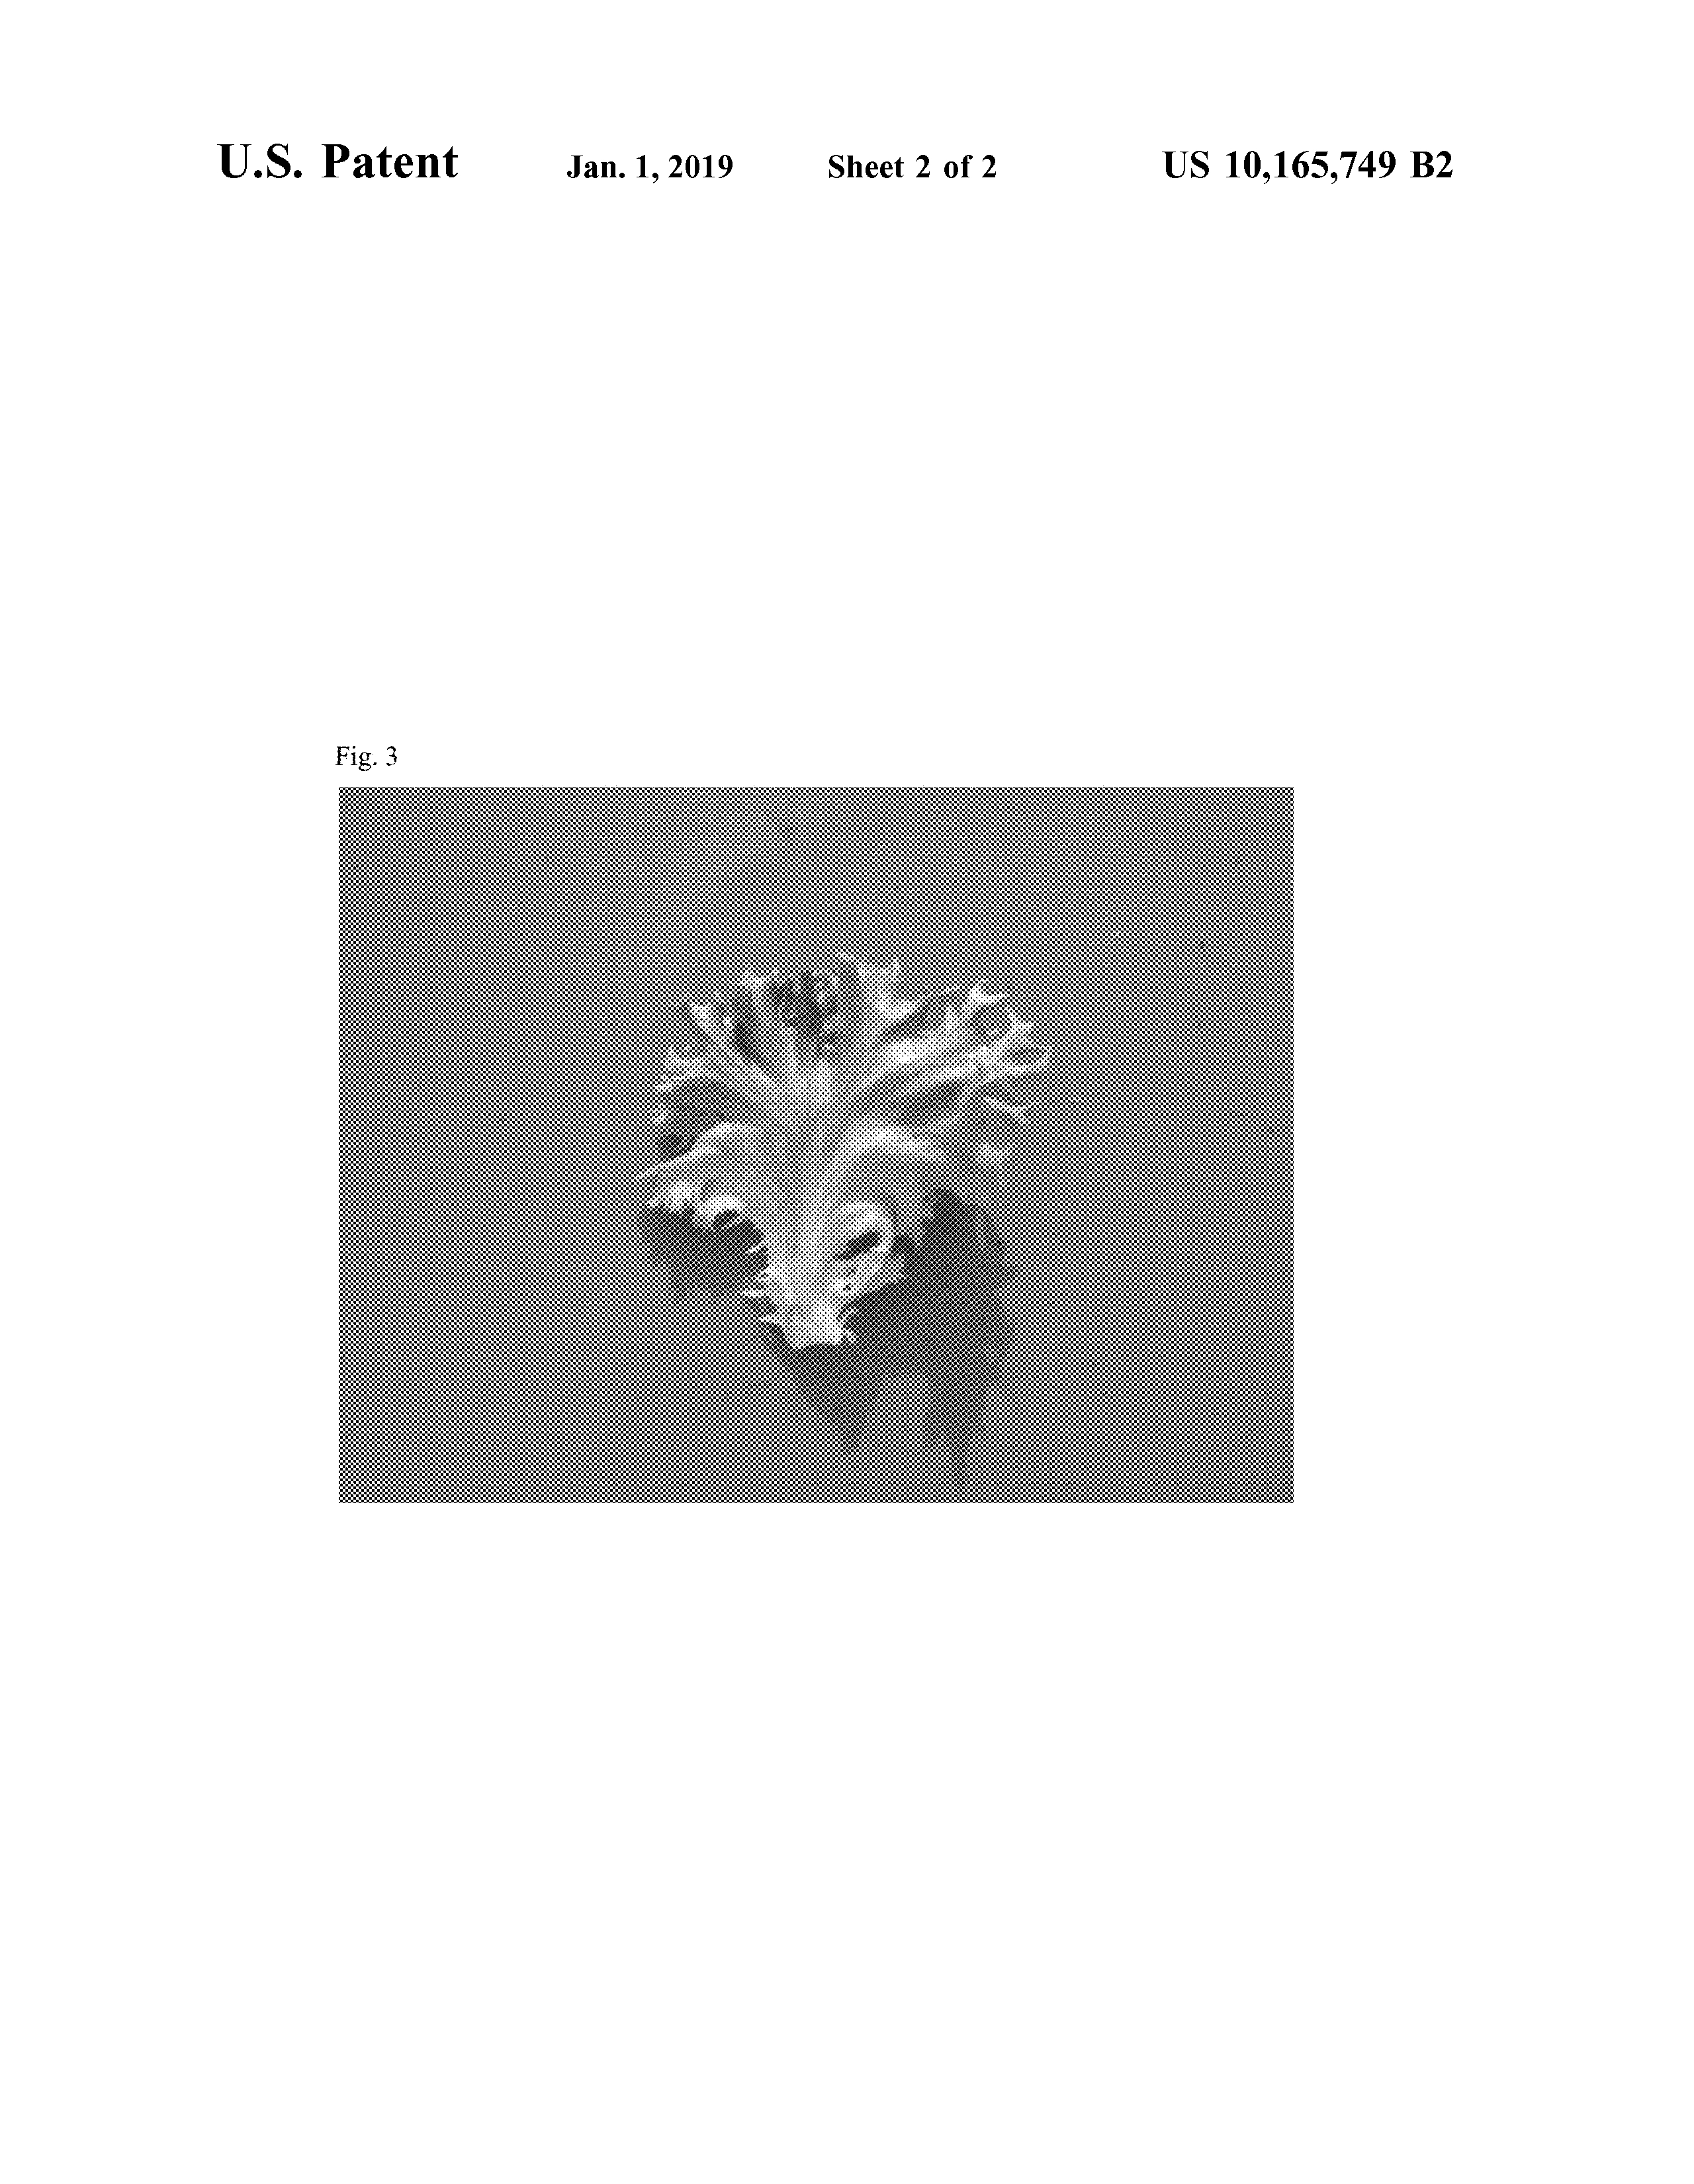patent image: (308, 717, 1323, 1541)
